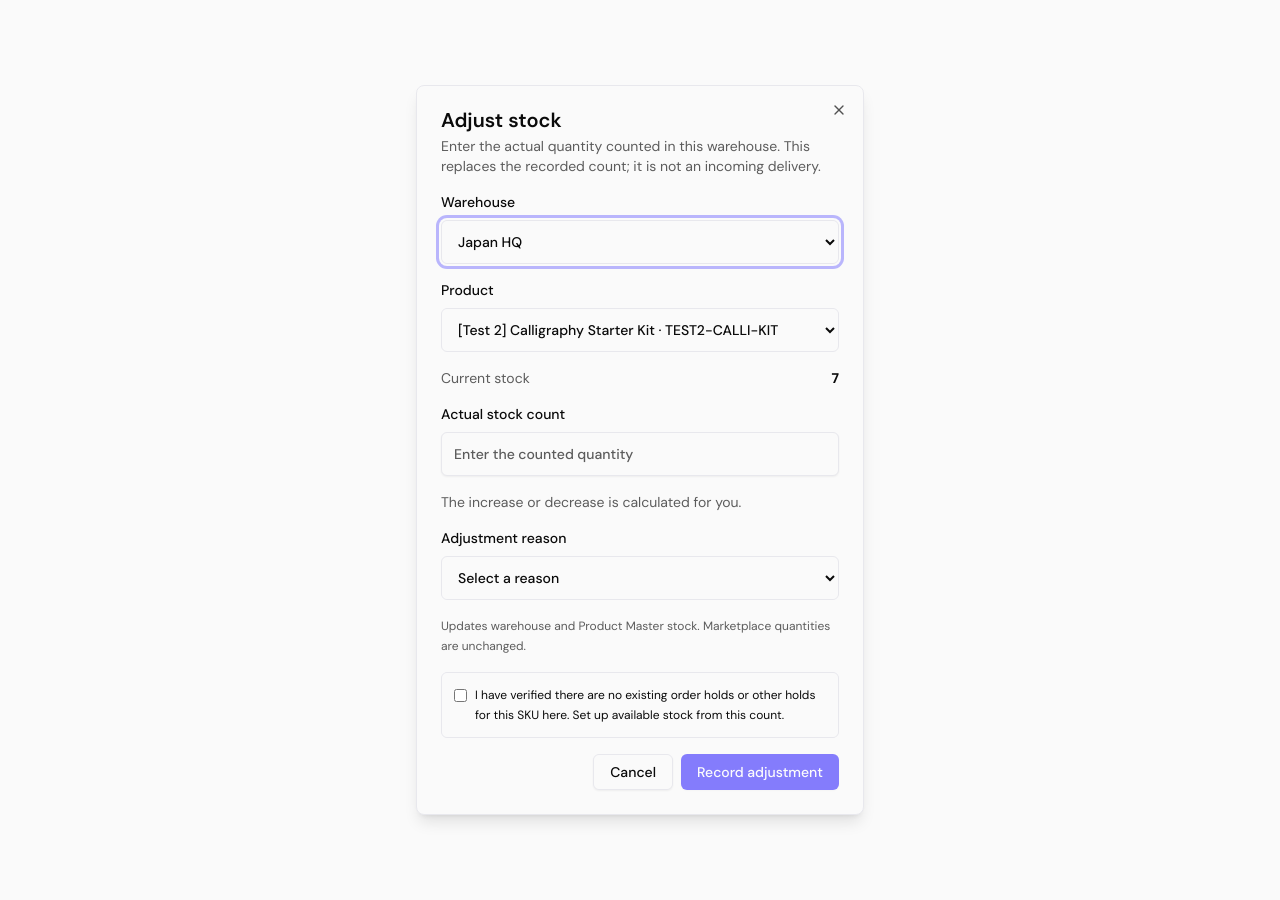
Test case: stock adjustments › clears the count and reason when the selected warehouse or product changes
Type "10" into the number field labelled "Actual stock count". click: (640, 454)
box: [441,432,839,476]
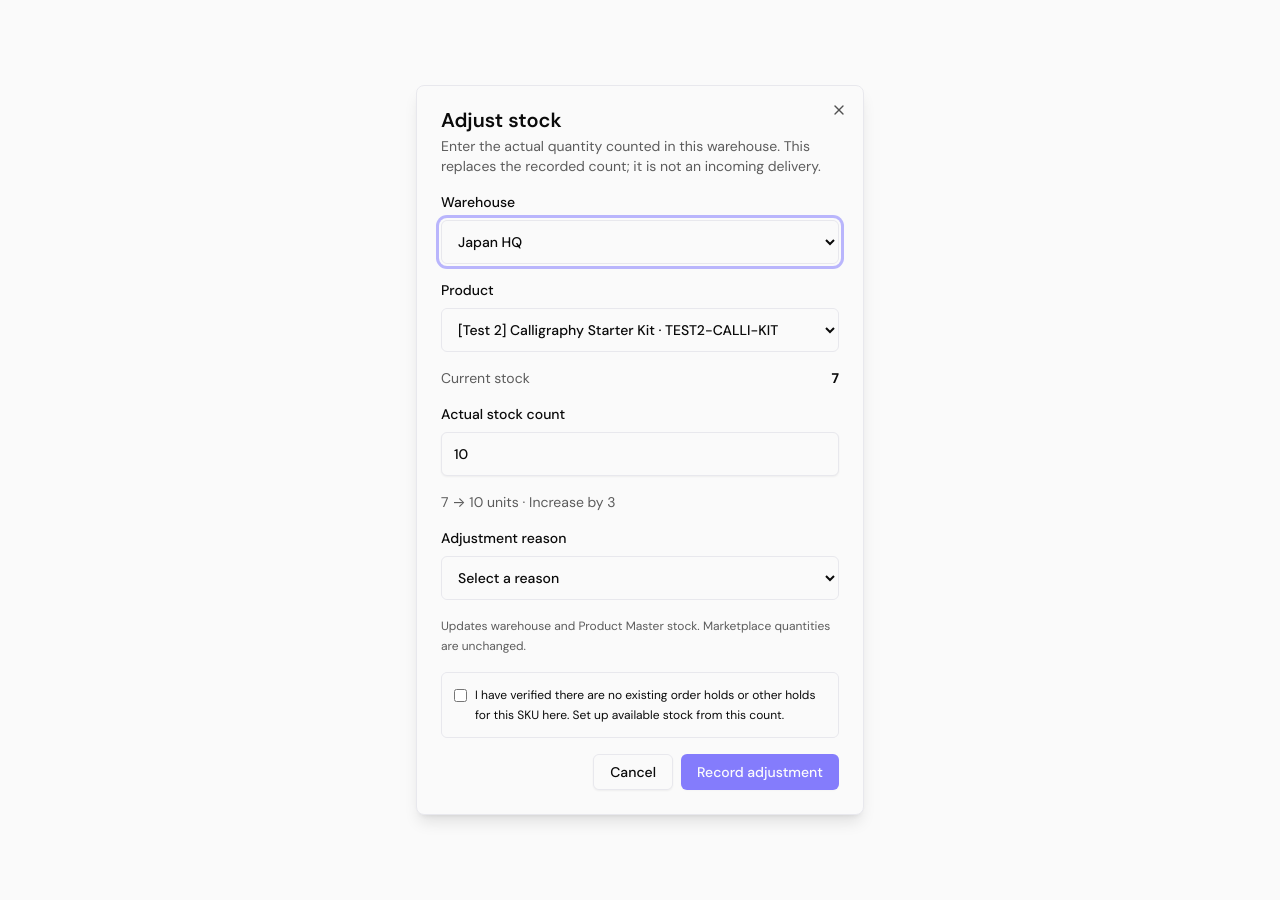
Select "Physical stock count" in the dropdown labelled "Adjustment reason". click: (640, 578)
box: [441,556,839,600]
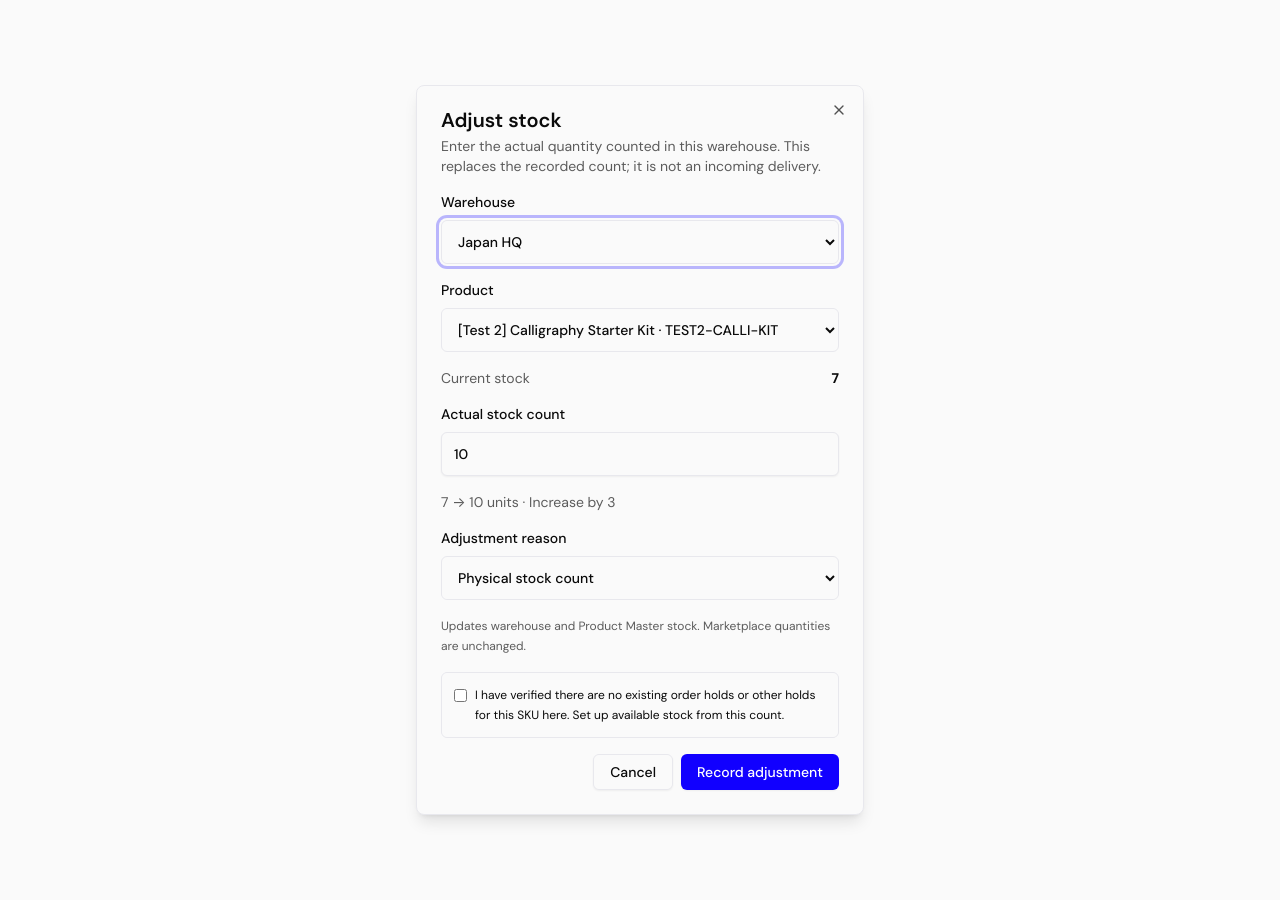
Select "Singapore" in the dropdown labelled "Warehouse". click: (640, 242)
box: [441,220,839,264]
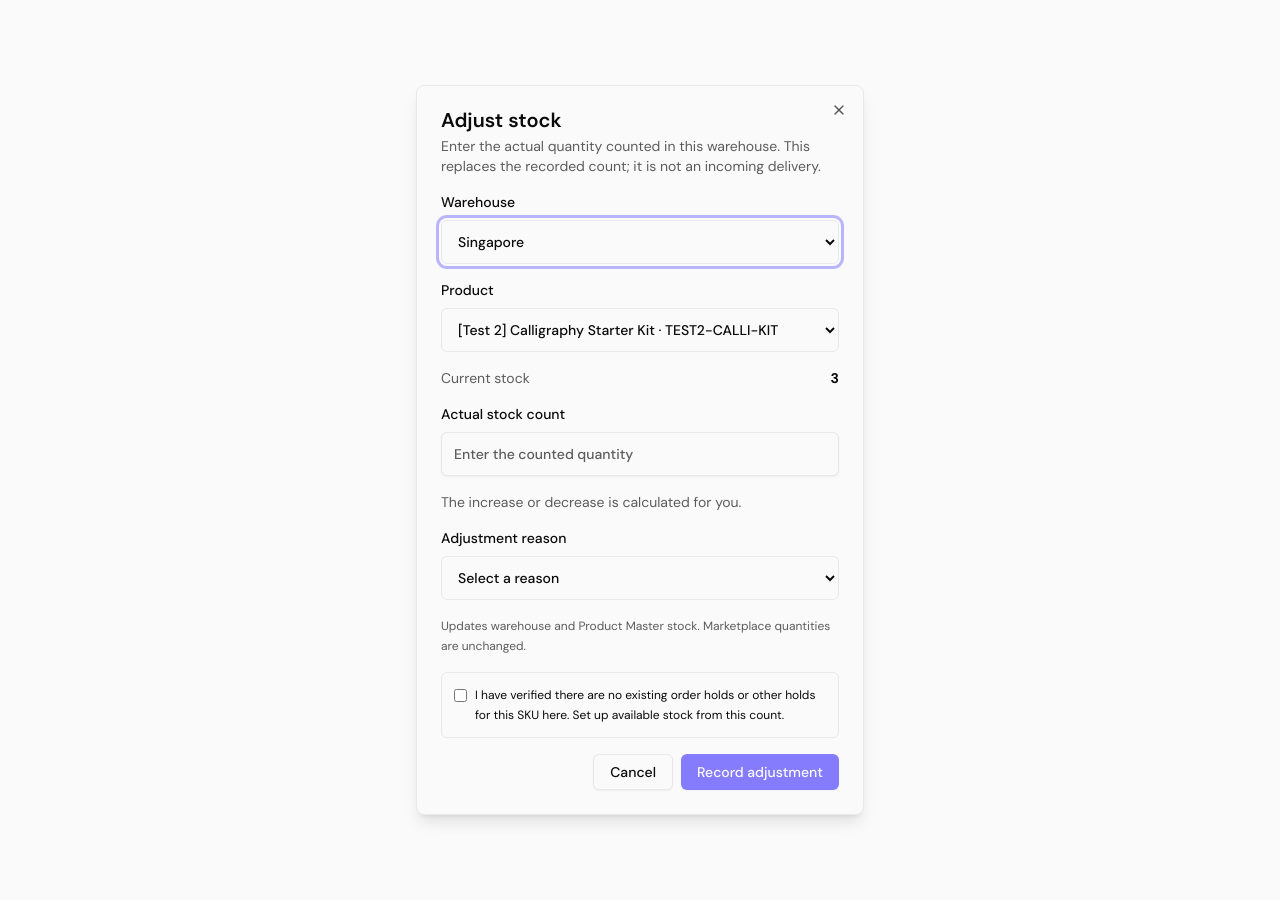
Now the number field labelled "Actual stock count" is not empty
Now the button "Record adjustment" is disabled, box [681,754,839,790]
Type "5" into the number field labelled "Actual stock count". click: (640, 454)
box: [441,432,839,476]
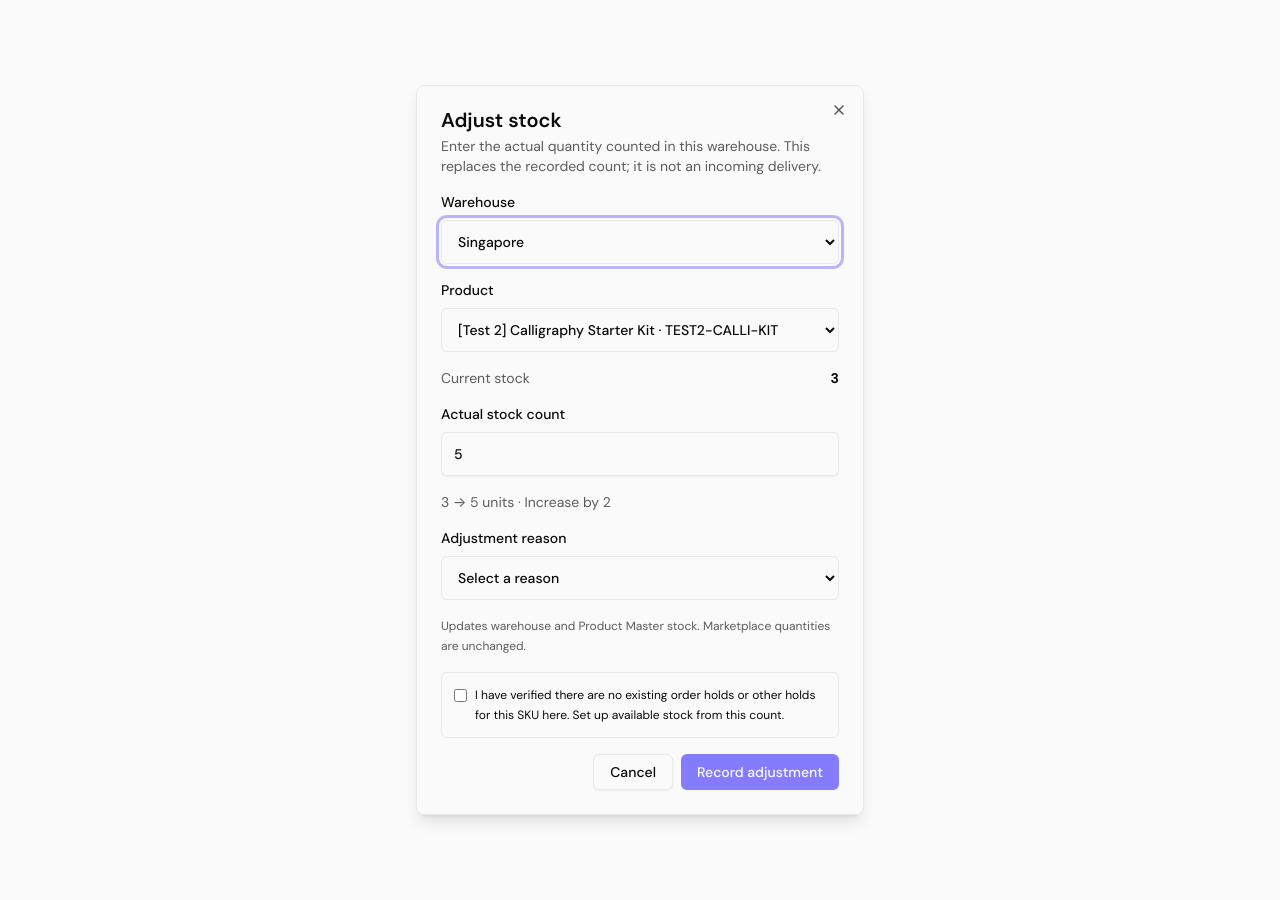
Select "Physical stock count" in the dropdown labelled "Adjustment reason". click: (640, 578)
box: [441,556,839,600]
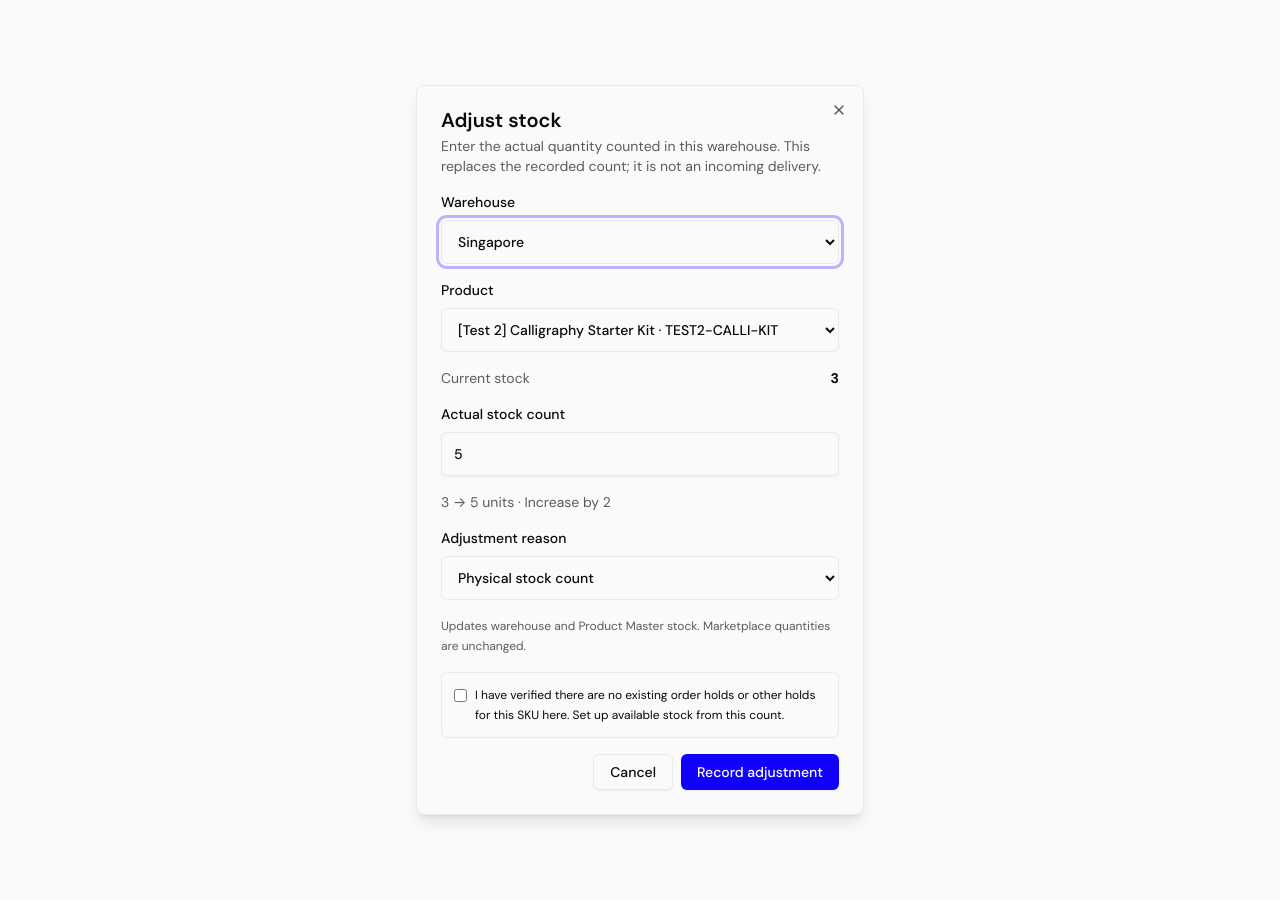
Select "Second product · SECOND" in the dropdown labelled "Product". click: (640, 330)
box: [441,308,839,352]
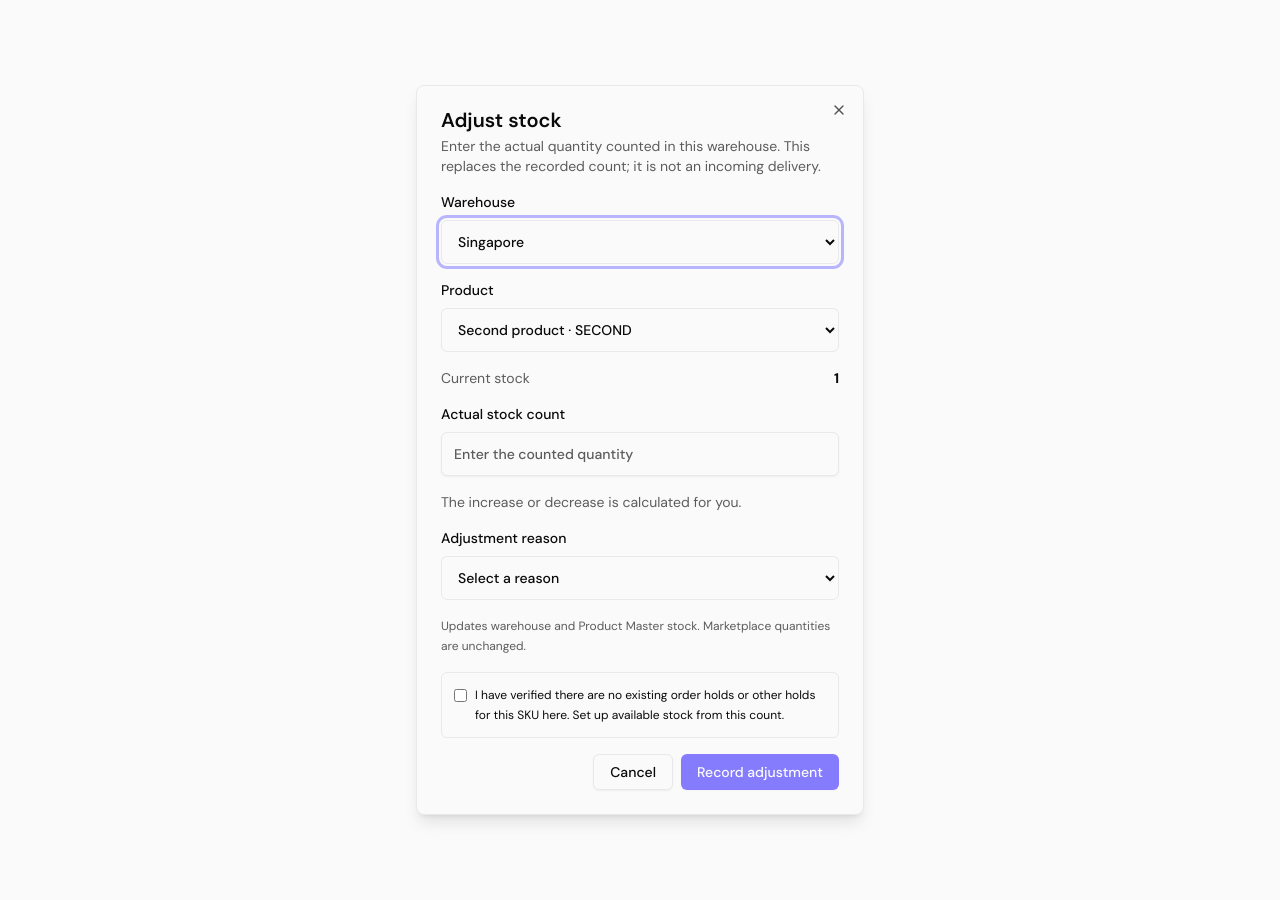
Now the number field labelled "Actual stock count" is not empty, box [441,432,839,476]
Now the button "Record adjustment" is disabled, box [681,754,839,790]
